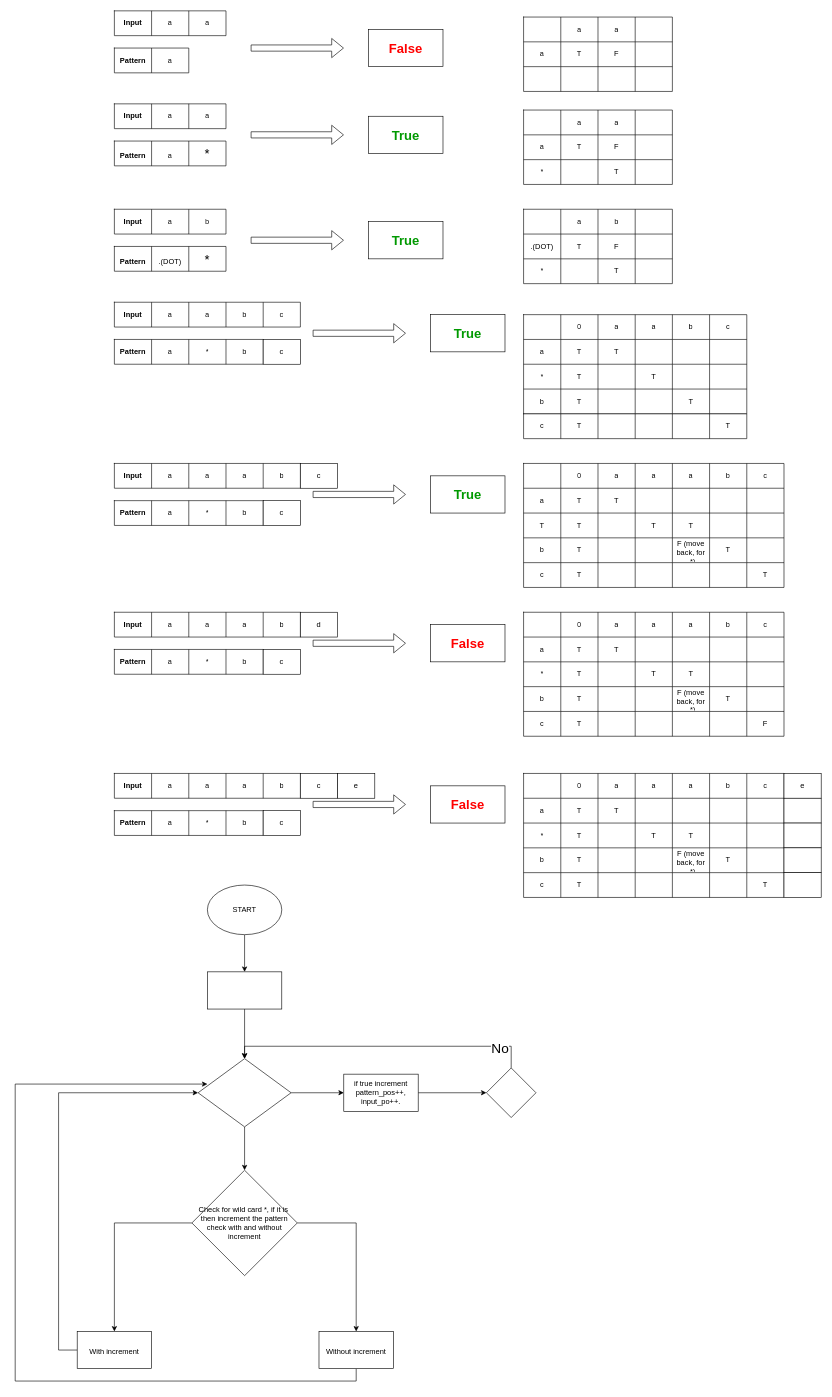
The diagram is 832 pixels wide and 1397 high, and some of its shapes have lost their labels. Each missing label, with the centre of its shape:
"Check if input[input_po] match with pattern[pattern_pos]?" goes at point 244,1092.
"if input_pos >= len(input)" goes at point 511,1092.
"input pattern pattern_pos:=0 input_po:=0" goes at point 244,990.
